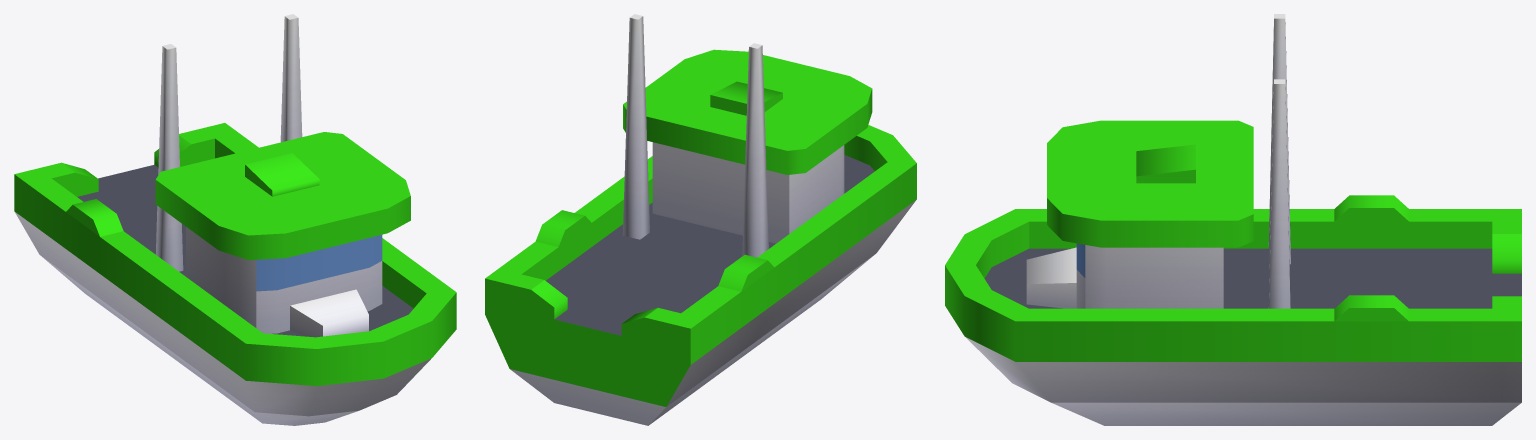
File: boat-fishing-small.glb
The picture shows the model from 3 angles, left to right: view 1: azimuth 30°, elevation 25°; view 2: azimuth 150°, elevation 25°; view 3: azimuth 270°, elevation 25°; orthographic projection. The views are drawn at different scales.
Visible parts, largest first — view 1: body.001, boat-fishing-small; view 2: body.001, boat-fishing-small; view 3: body.001, boat-fishing-small.
Boxes of the visible parts, x1,y1,x2,y2 form: body.001: (14, 123, 456, 385); boat-fishing-small: (14, 14, 431, 425); body.001: (485, 49, 916, 406); boat-fishing-small: (510, 14, 916, 425); body.001: (945, 120, 1521, 361); boat-fishing-small: (965, 14, 1521, 425).
Bounding box in the file's own units: 1.78 × 2.6 × 3.87.
Materials: 2 (1 with a texture image).
